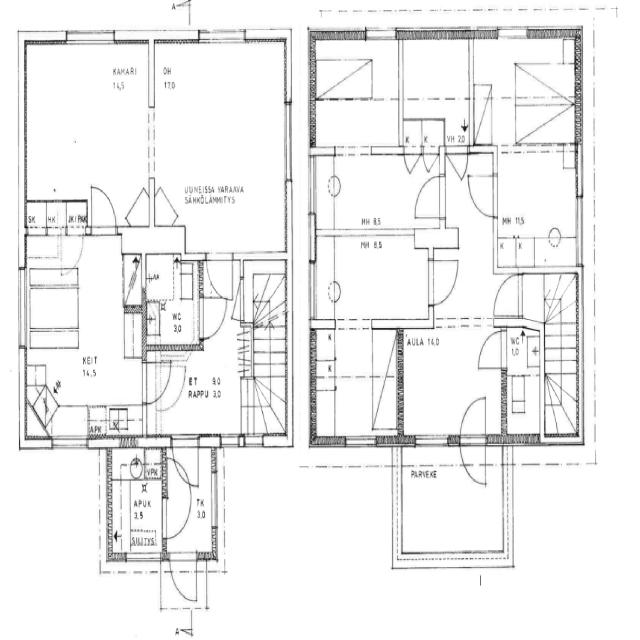door: (457, 392, 489, 490), (426, 254, 462, 312), (411, 167, 445, 227), (466, 163, 498, 221), (88, 180, 119, 238), (491, 270, 523, 321), (168, 552, 198, 605), (474, 326, 506, 375), (161, 493, 193, 542), (198, 293, 228, 343), (204, 251, 234, 301), (147, 355, 175, 407), (126, 187, 152, 229), (152, 187, 177, 230), (62, 230, 85, 271), (402, 146, 420, 176), (170, 0, 192, 21)
window: (15, 264, 30, 354), (64, 26, 116, 50), (198, 25, 246, 49), (411, 430, 455, 456), (572, 195, 586, 267), (49, 432, 90, 455), (306, 147, 318, 219), (343, 431, 380, 453), (306, 258, 318, 324), (124, 553, 160, 570), (496, 25, 530, 43), (219, 431, 247, 452), (238, 432, 266, 452)
zone: (150, 40, 291, 254), (25, 236, 142, 439), (22, 41, 151, 202), (395, 326, 495, 446), (324, 182, 428, 296), (306, 322, 402, 444), (494, 150, 580, 268), (312, 41, 402, 151), (324, 151, 430, 238), (326, 240, 429, 326), (402, 40, 472, 146), (142, 255, 200, 355), (109, 465, 165, 561), (504, 326, 543, 443), (247, 266, 284, 324), (24, 200, 67, 237), (65, 201, 89, 235)
